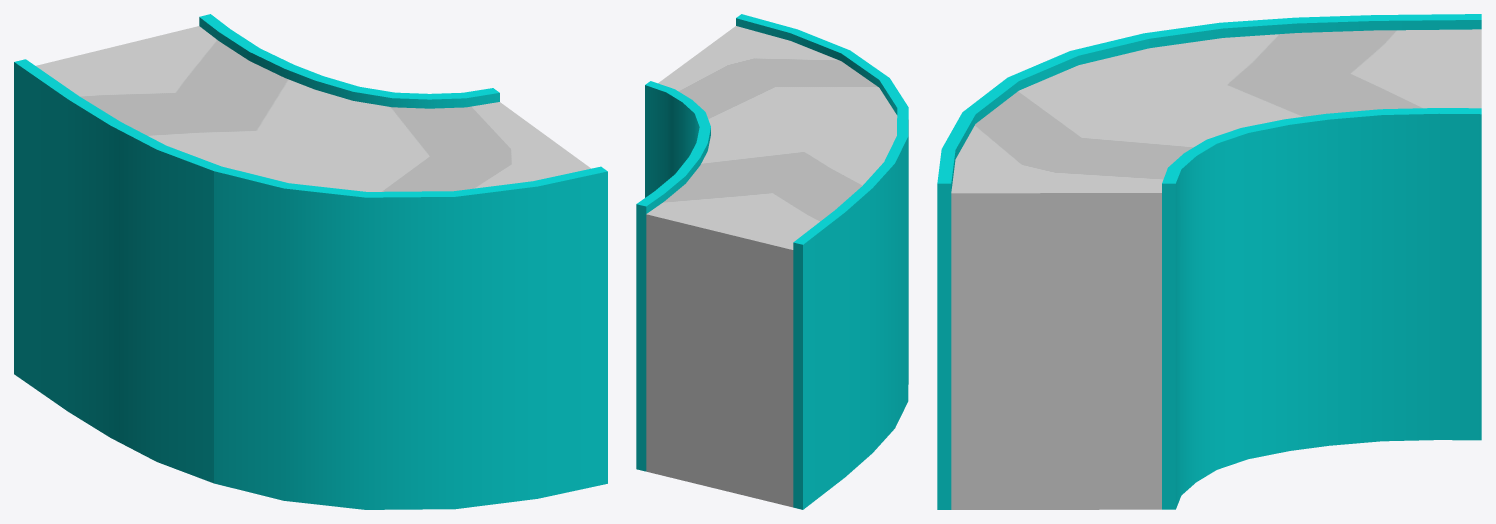
The model's file is SmallLeftRightCurveExit.fbx.
The picture shows the model from 3 angles, left to right: view 1: azimuth 30°, elevation 25°; view 2: azimuth 150°, elevation 25°; view 3: azimuth 270°, elevation 25°; orthographic projection. The views are drawn at different scales.
Parts seen in each view (by area): view 1: polySurface15; view 2: polySurface15; view 3: polySurface15.
Part boxes in pixels (x1=…): polySurface15: x1=14, y1=14, x2=607, y2=509; polySurface15: x1=636, y1=14, x2=908, y2=509; polySurface15: x1=937, y1=14, x2=1481, y2=509.
Size of the model in its own units: 57.48 by 51.5 by 77.89.
3 materials, 1 textured.
